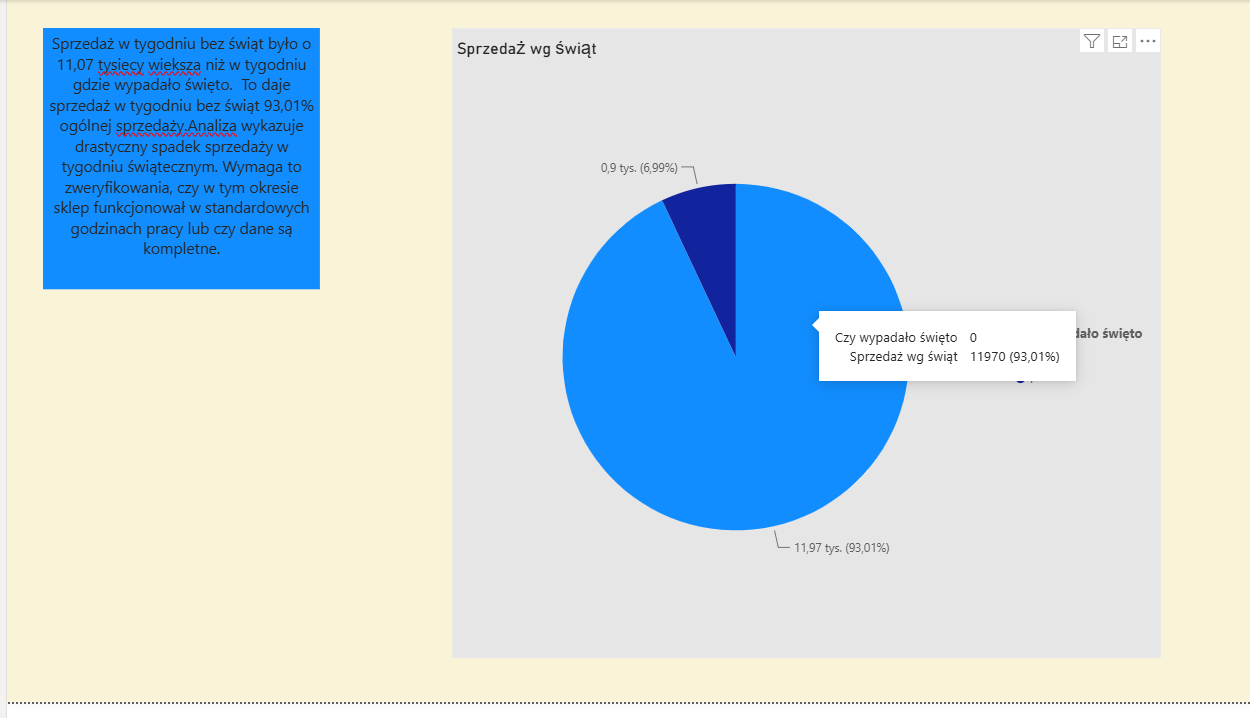

The dashboard page shown, as its layout file describes it:
{"tool":"powerbi","page":{"name":"Strona 1","canvas":[1280,720],"ordinal":0},"visuals":[{"type":"textbox","box":[36.9,28.7,284.1,267.7],"z":0},{"type":"pieChart","title":"Sprzedaż wg świąt","fields":{"Category":["Walmart_Sales.Holiday_Flag"],"Y":["CountNonNull(Walmart_Sales.Weekly_Sales)"]},"box":[456.4,28.7,727.2,646.2],"z":1000}]}

Visuals, with their boxes on the page's 1280x720 design canvas (x1, y1, x2, y2). These are canvas units, not pixel positions in the 1250x718 screenshot, which may show the page scaled, cropped or inside an application window:
textbox: bbox(37, 29, 321, 296)
"Sprzedaż wg świąt" pieChart: bbox(456, 29, 1184, 675)
